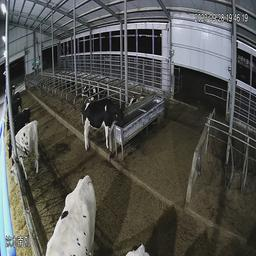cow: (48, 166, 101, 254), (78, 98, 126, 158), (5, 121, 46, 188), (3, 98, 29, 125)
